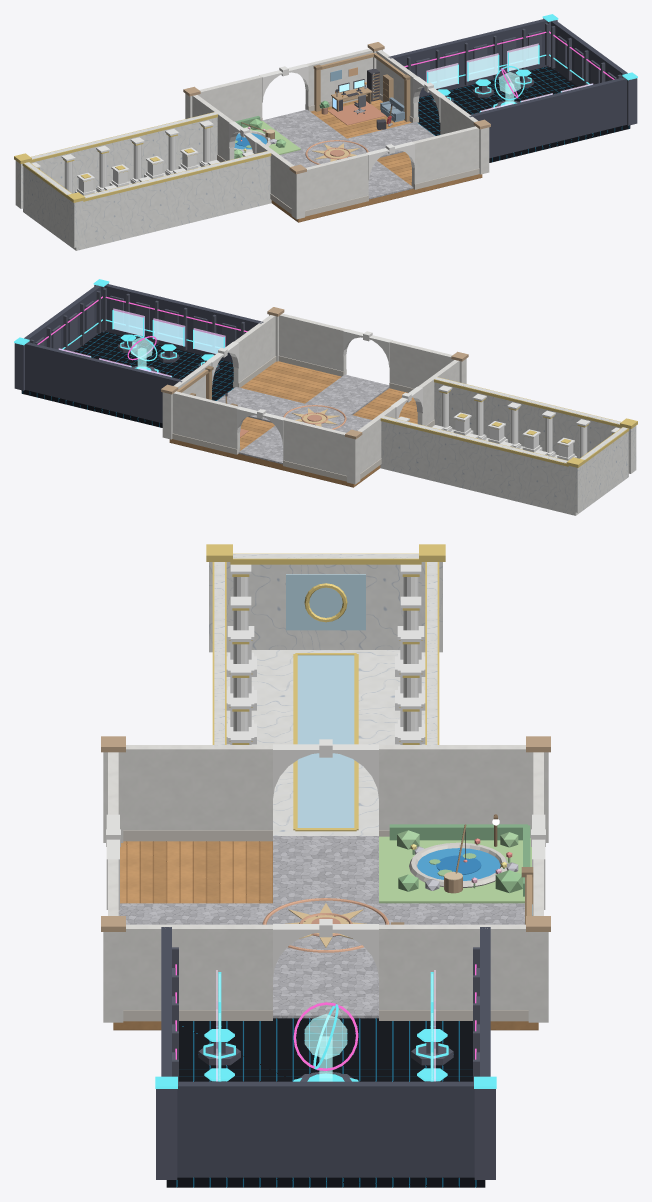
Rendered from map.glb.
3 views of the same model, one above another, from view 1: azimuth 30°, elevation 25°; view 2: azimuth 150°, elevation 25°; view 3: azimuth 270°, elevation 25° (orthographic). The views are drawn at different scales.
Visible parts, largest first — view 1: W_Wall_S, E_Wall_S, W_Wall_N, E_Floor, Path_NS, E_Wall_N, Wall.002, Floor, Wall.003, W_Wall_Far, Wall.001, Path_EW (+29 smaller); view 2: W_Wall_N, E_Wall_N, Floor, W_Wall_S, E_Floor, Path_NS, E_Wall_S, Wall.002, Wall, Wall.001, W_Wall_Far, Path_EW (+28 smaller); view 3: E_Wall_Far, E_Floor, Path_EW, Wall.007, Wall.006, Wall.004, Wall.005, W_Floor, Floor, W_Wall_Far, Runner_Field, Path_NS (+23 smaller).
Part boxes in pixels (<box>): W_Wall_S: <box>83,151,272,244</box>; E_Wall_S: <box>469,77,626,158</box>; W_Wall_N: <box>31,112,217,193</box>; E_Floor: <box>417,66,630,162</box>; Path_NS: <box>262,109,413,199</box>; E_Wall_N: <box>388,19,547,97</box>; Wall.002: <box>412,126,479,188</box>; Floor: <box>271,99,482,222</box>; Wall.003: <box>305,153,368,210</box>; W_Wall_Far: <box>23,162,71,241</box>; Wall.001: <box>199,75,262,121</box>; Path_EW: <box>280,122,435,167</box>; W_Wall_N: <box>379,416,568,509</box>; E_Wall_N: <box>25,342,182,423</box>; Floor: <box>169,361,417,487</box>; W_Wall_S: <box>434,377,620,458</box>; E_Floor: <box>21,331,234,427</box>; Path_NS: <box>238,374,389,464</box>; E_Wall_S: <box>104,284,263,362</box>; Wall.002: <box>279,313,346,374</box>; Wall: <box>172,391,239,454</box>; Wall.001: <box>283,418,346,475</box>; W_Wall_Far: <box>580,427,628,506</box>; Path_EW: <box>216,387,371,432</box>; E_Wall_Far: <box>177,1081,474,1177</box>; E_Floor: <box>166,1018,485,1187</box>; Path_EW: <box>273,836,378,1018</box>; Wall.007: <box>123,745,272,830</box>; Wall.006: <box>379,745,528,830</box>; Wall.004: <box>379,924,528,1009</box>; Wall.005: <box>123,924,272,1009</box>; W_Floor: <box>226,650,425,835</box>; Floor: <box>113,841,538,1030</box>; W_Wall_Far: <box>230,554,421,649</box>; Runner_Field: <box>297,655,354,827</box>; Path_NS: <box>118,903,524,948</box>.
Bounding box in the file's own units: 47.93 × 4.56 × 16.95.
Materials: 61 (5 with a texture image).
